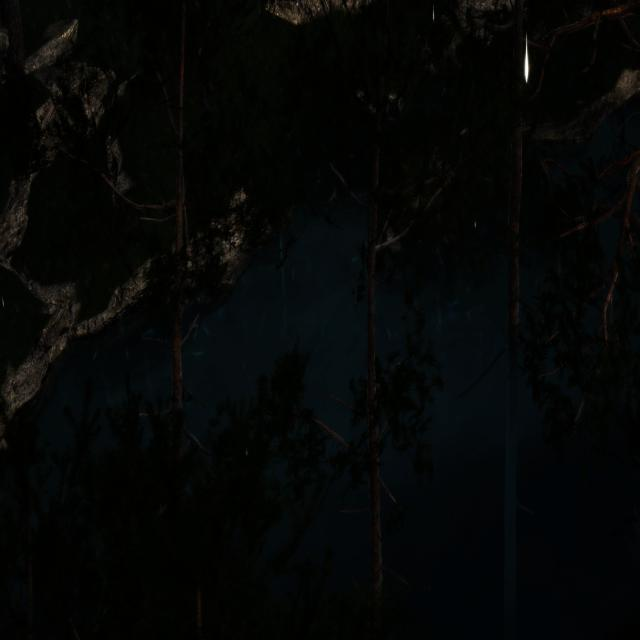Human: (196, 0, 217, 110)
